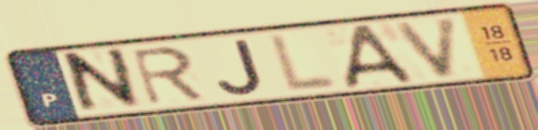A: (342, 21, 419, 92)
J: (215, 37, 269, 97)
L: (266, 30, 342, 95)
N: (64, 45, 146, 118)
R: (127, 44, 209, 108)
V: (391, 14, 464, 82)
